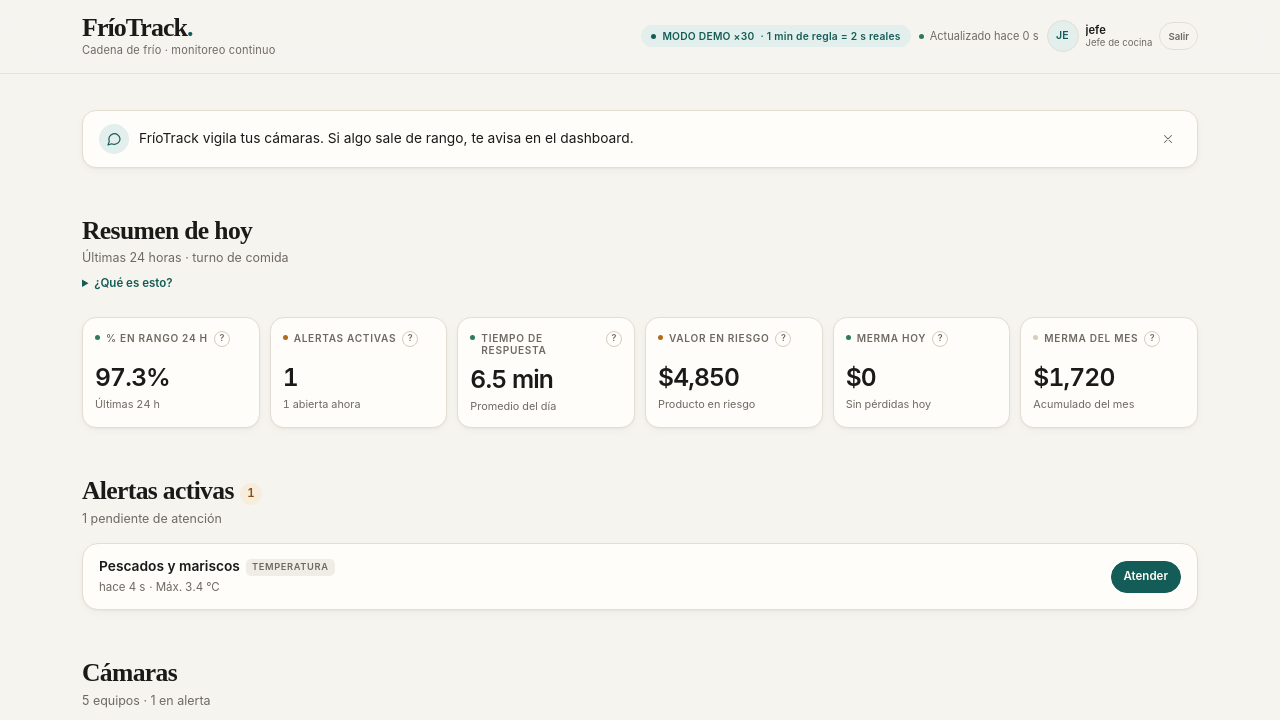
it: vista general › el banner de onboarding se puede cerrar
Expected: the text "FríoTrack vigila tus cámaras. Si algo sale de rango, te avisa en el dashboard." is shown, [139,130,634,146]
Click the button named "Cerrar aviso". click: (1168, 139)
box: [1153,124,1183,154]
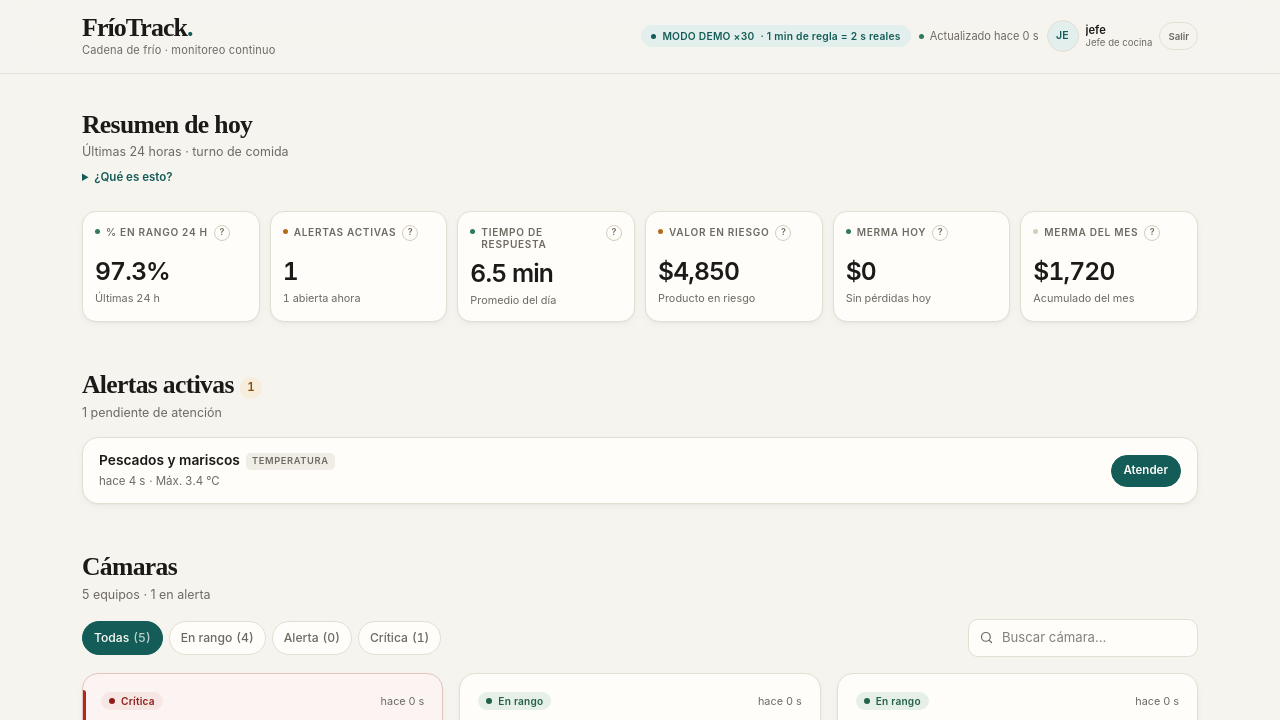
Result: the text "FríoTrack vigila tus cámaras" is gone
